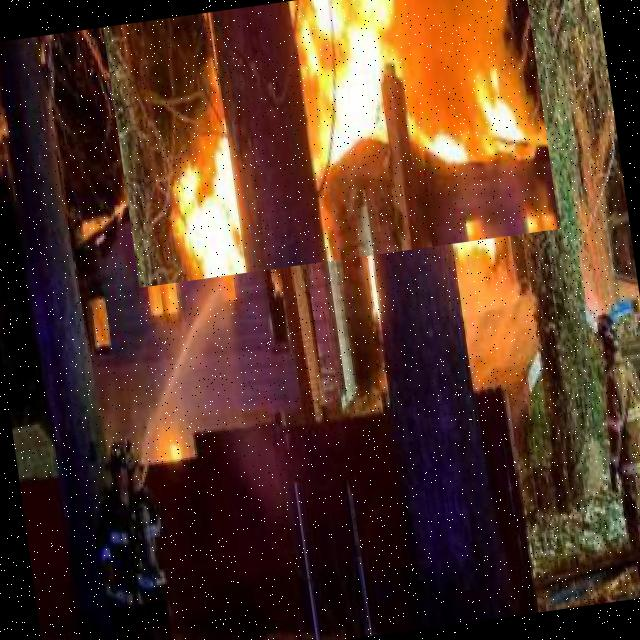fire: (103, 0, 559, 287)
